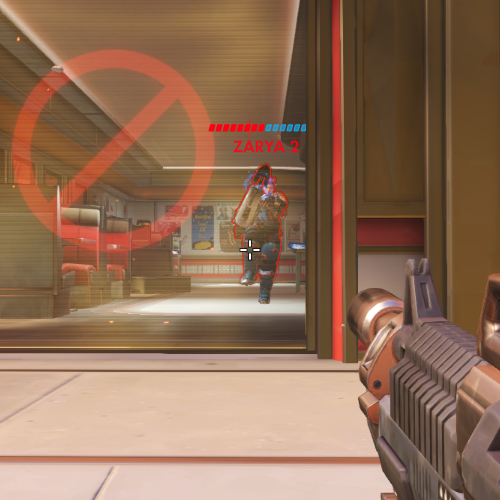hpbar: (208, 123, 307, 132)
